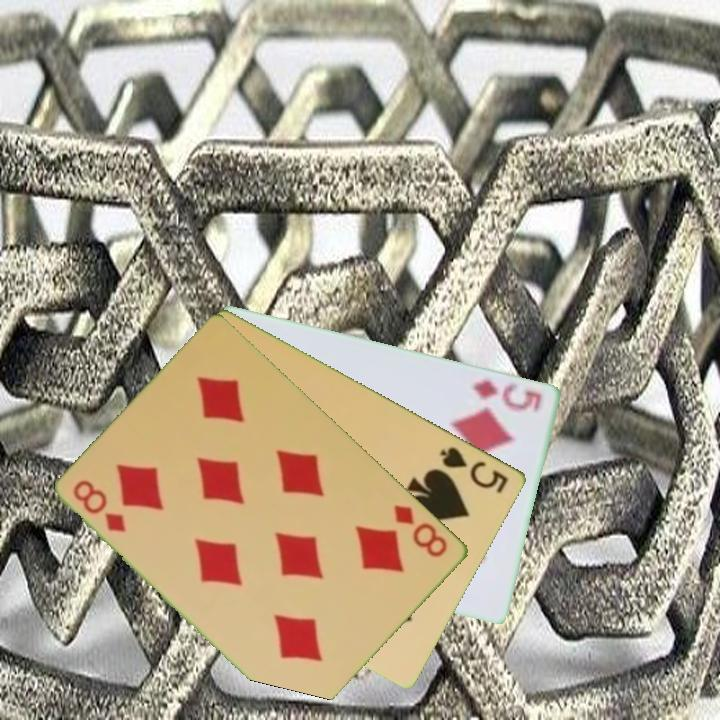5d: (469, 376, 545, 415)
5s: (436, 443, 512, 496)
8d: (390, 501, 451, 561), (69, 476, 130, 536)
